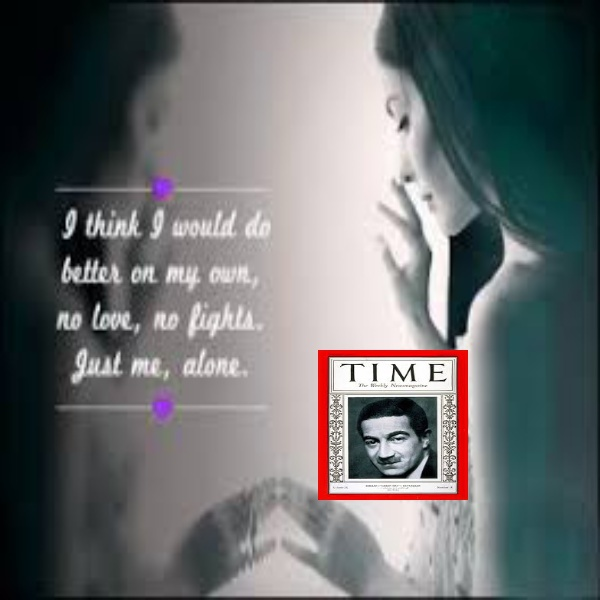time_cover: (322, 341, 468, 500)
